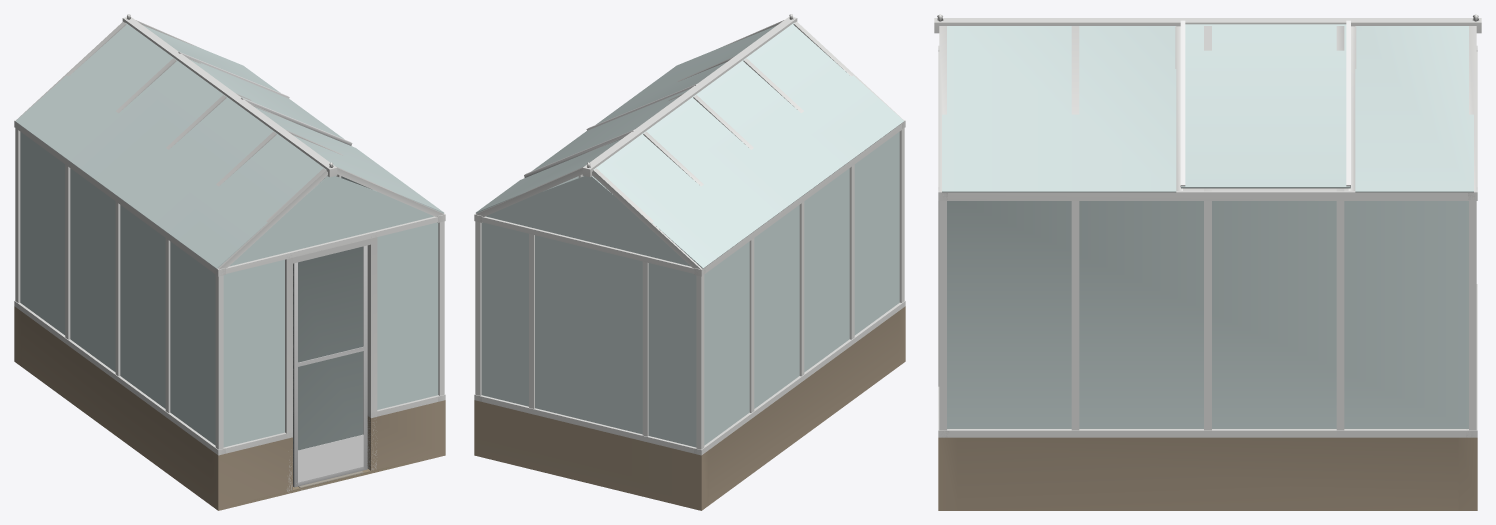
Rendered from greenhouse.far.glb.
The picture shows the model from 3 angles, left to right: view 1: azimuth 30°, elevation 25°; view 2: azimuth 150°, elevation 25°; view 3: azimuth 270°, elevation 25°; orthographic projection. The views are drawn at different scales.
Parts seen in each view (by area): view 1: greenhouse; view 2: greenhouse; view 3: greenhouse.
Part boxes in pixels (x1,y1,x2,y2): greenhouse: (14, 14, 445, 510); greenhouse: (474, 14, 905, 510); greenhouse: (934, 14, 1481, 510).
Bounding box in the file's own units: 1.81 × 2.43 × 2.84.
